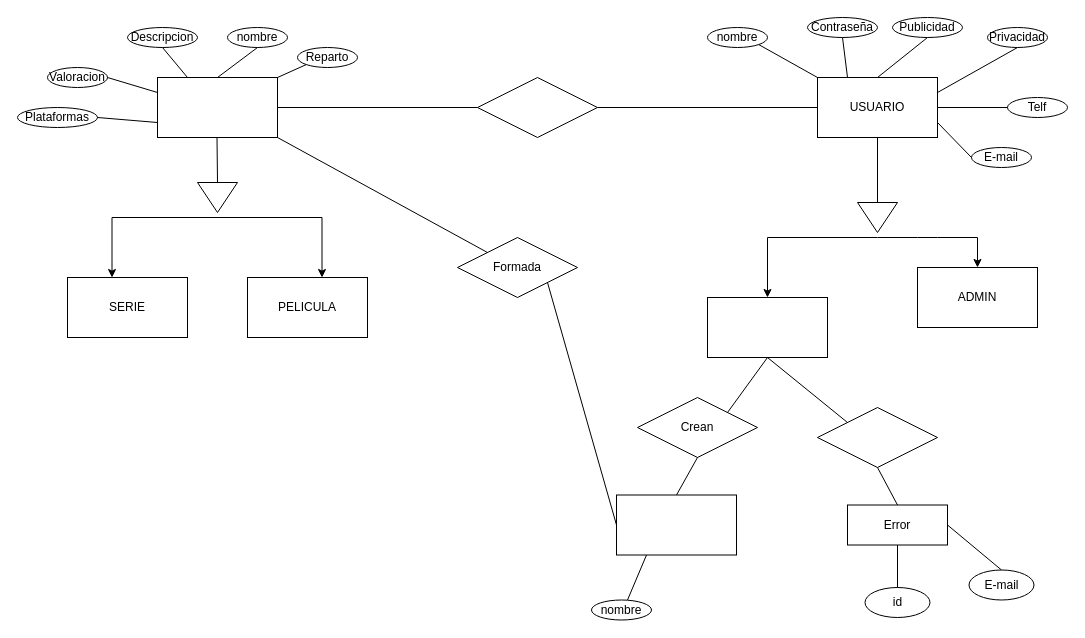
This 1085x638 diagram has some shape labels left out. The box of each missing label's shape, as (x1, y1, x2, y2) in pixels:
BASICO: (706, 296, 828, 358)
CATALOGO: (156, 76, 278, 138)
Dispone: (476, 76, 598, 138)
Lista: (616, 494, 736, 555)
Reportan: (816, 406, 938, 468)
